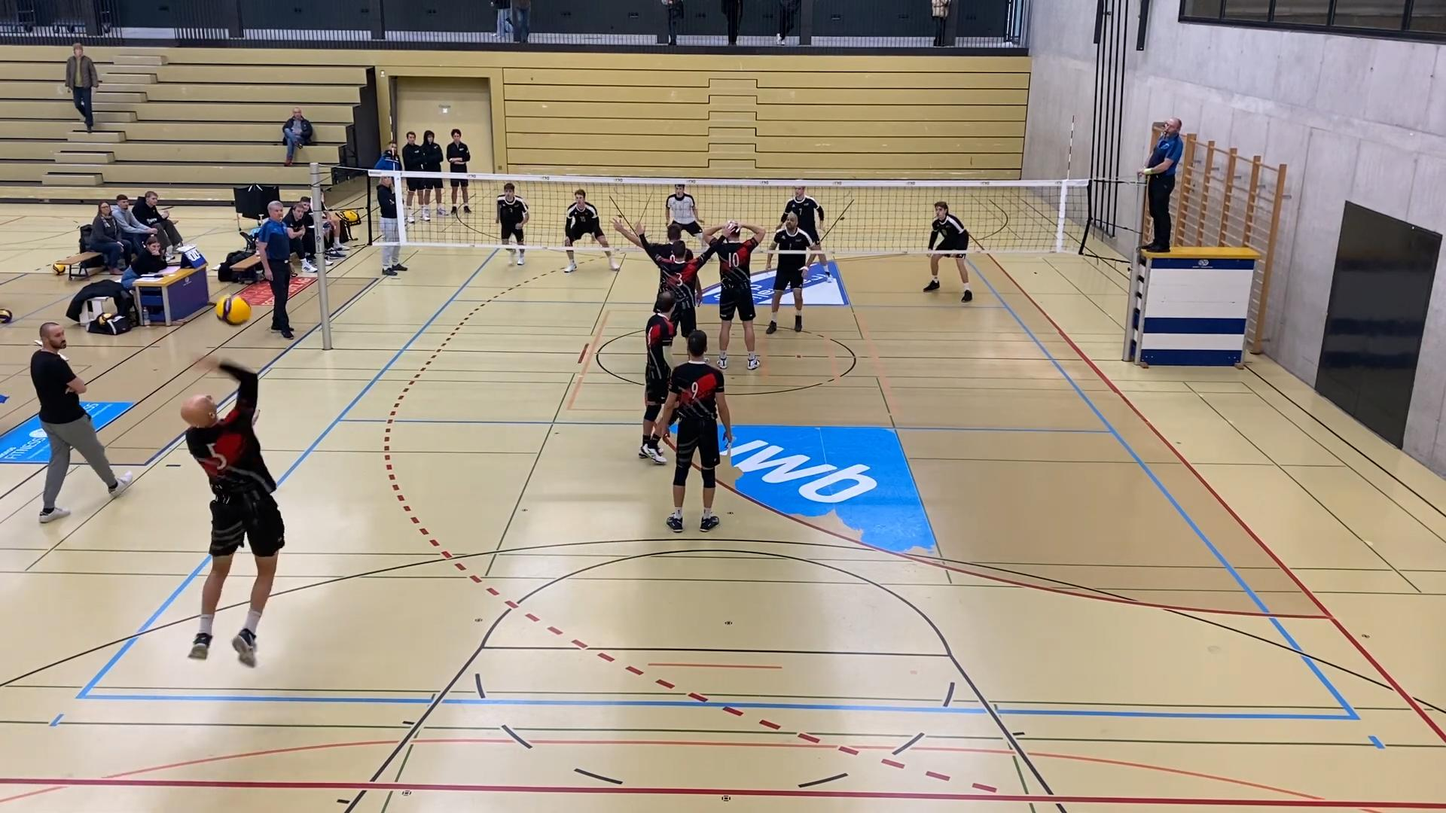battuta: (156, 314, 298, 667)
